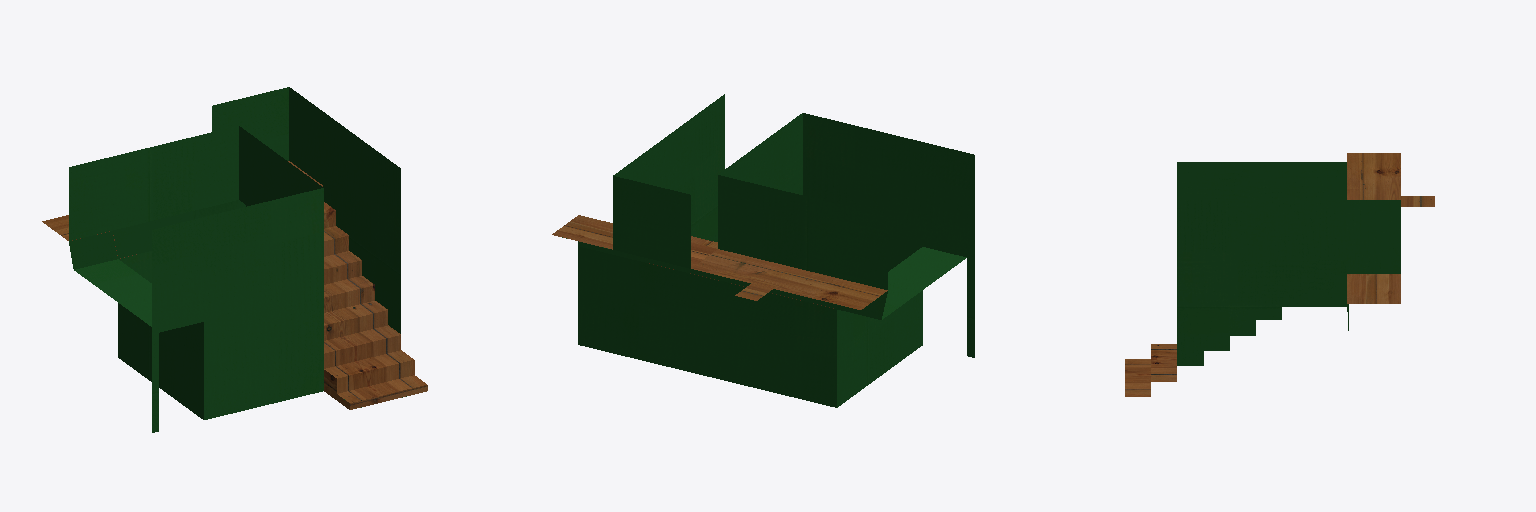
3 views of the same model, side by side, from view 1: azimuth 30°, elevation 25°; view 2: azimuth 150°, elevation 25°; view 3: azimuth 270°, elevation 25° (orthographic).
Visible parts, largest first — view 1: ParedFachada2:Mesh; view 2: ParedFachada2:Mesh; view 3: ParedFachada2:Mesh.
Boxes of the visible parts, x1=… form: ParedFachada2:Mesh: x1=42, y1=87, x2=427, y2=432; ParedFachada2:Mesh: x1=552, y1=94, x2=974, y2=407; ParedFachada2:Mesh: x1=1125, y1=153, x2=1434, y2=396.
Size of the model in its own units: 31.47 by 19.64 by 27.07.
Materials: 1 (1 with a texture image).